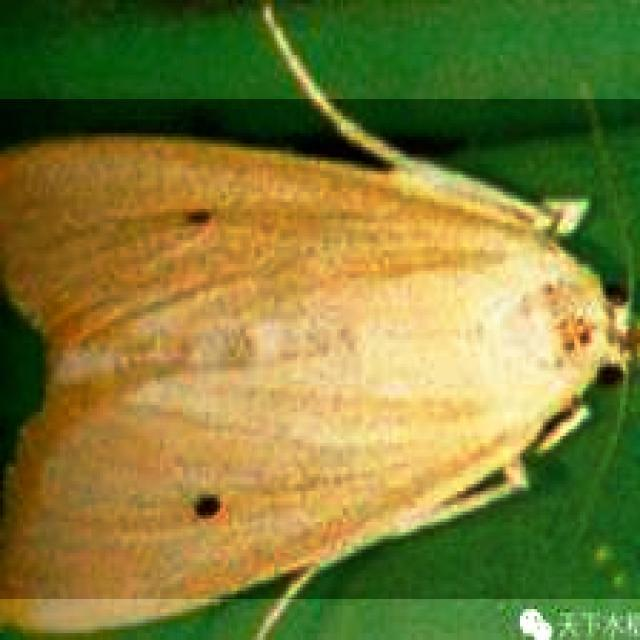stem-borer: (0, 100, 640, 600)
